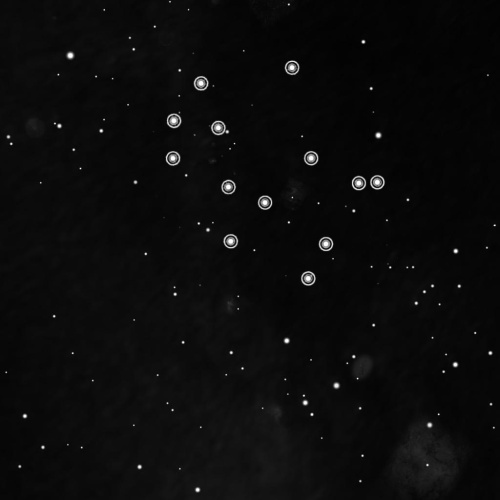gemini: (161, 59, 387, 290)
